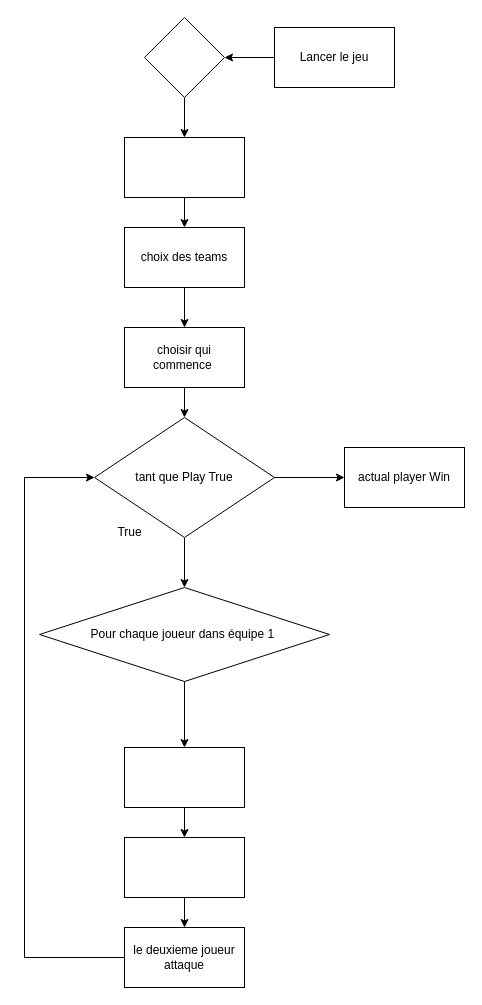
This 482x1005 diagram has some shape labels left out. The shapes that lost their labels are listed below. From the top down, each one's centre as x and y in pixels, then its label:
[184,57]: entry
[184,167]: Initialisation des personnages
[184,777]: le premier joueur attaque
[184,867]: vérifier l'état de la cible
